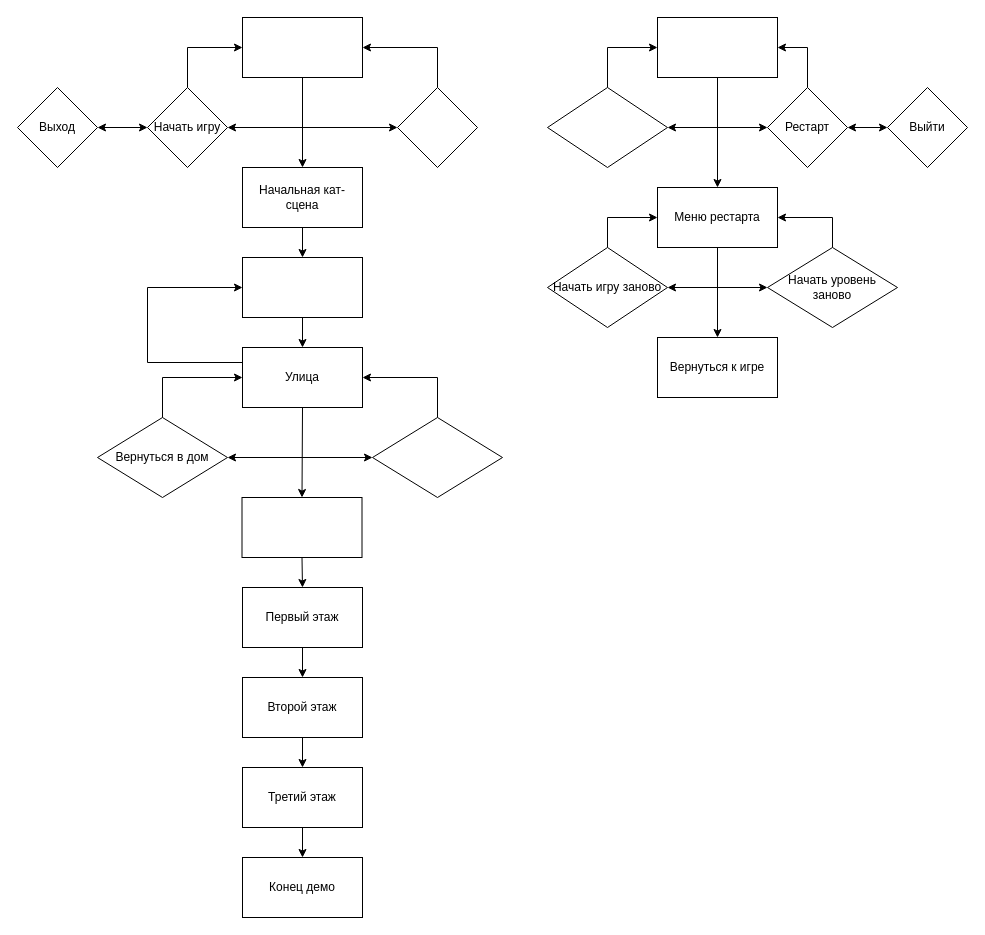
This 985x935 diagram has some shape labels left out. Here are the shapes that lost their labels. From the top down, the centre of each, then its label:
(302,47): Меню
(717,47): Меню паузы
(437,127): Авторы
(607,127): Продолжить игру
(302,287): Дом Тео
(437,457): Пойти к офису
(301,527): Ресепшн офиса Уайт
